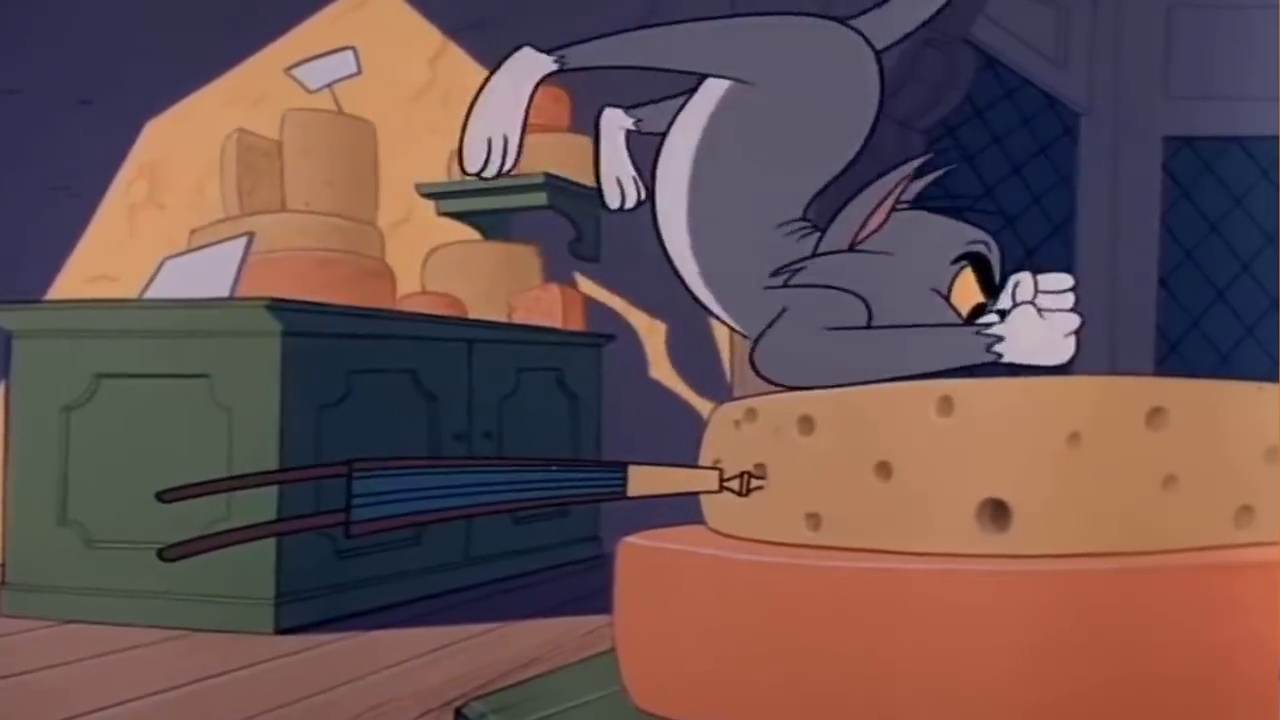face: (913, 226, 1010, 341)
